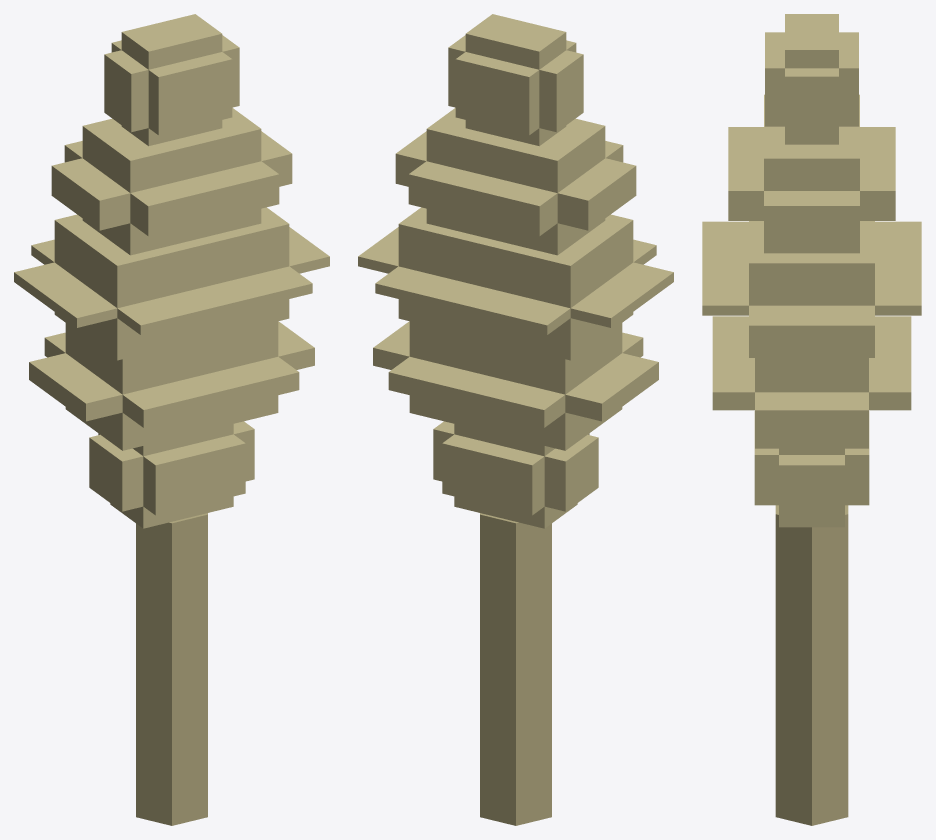
File: Food_Grain.glb
The picture shows the model from 3 angles, left to right: view 1: azimuth 30°, elevation 25°; view 2: azimuth 150°, elevation 25°; view 3: azimuth 270°, elevation 25°; orthographic projection.
Parts seen in each view (by area): view 1: geometry_0; view 2: geometry_0; view 3: geometry_0.
Boxes of the visible parts, left/top/right/bottom form: geometry_0: left=14, top=14, right=329, bottom=825; geometry_0: left=358, top=14, right=673, bottom=825; geometry_0: left=702, top=14, right=921, bottom=825.
Size of the model in its own units: 0.357 by 1.05 by 0.2677.
